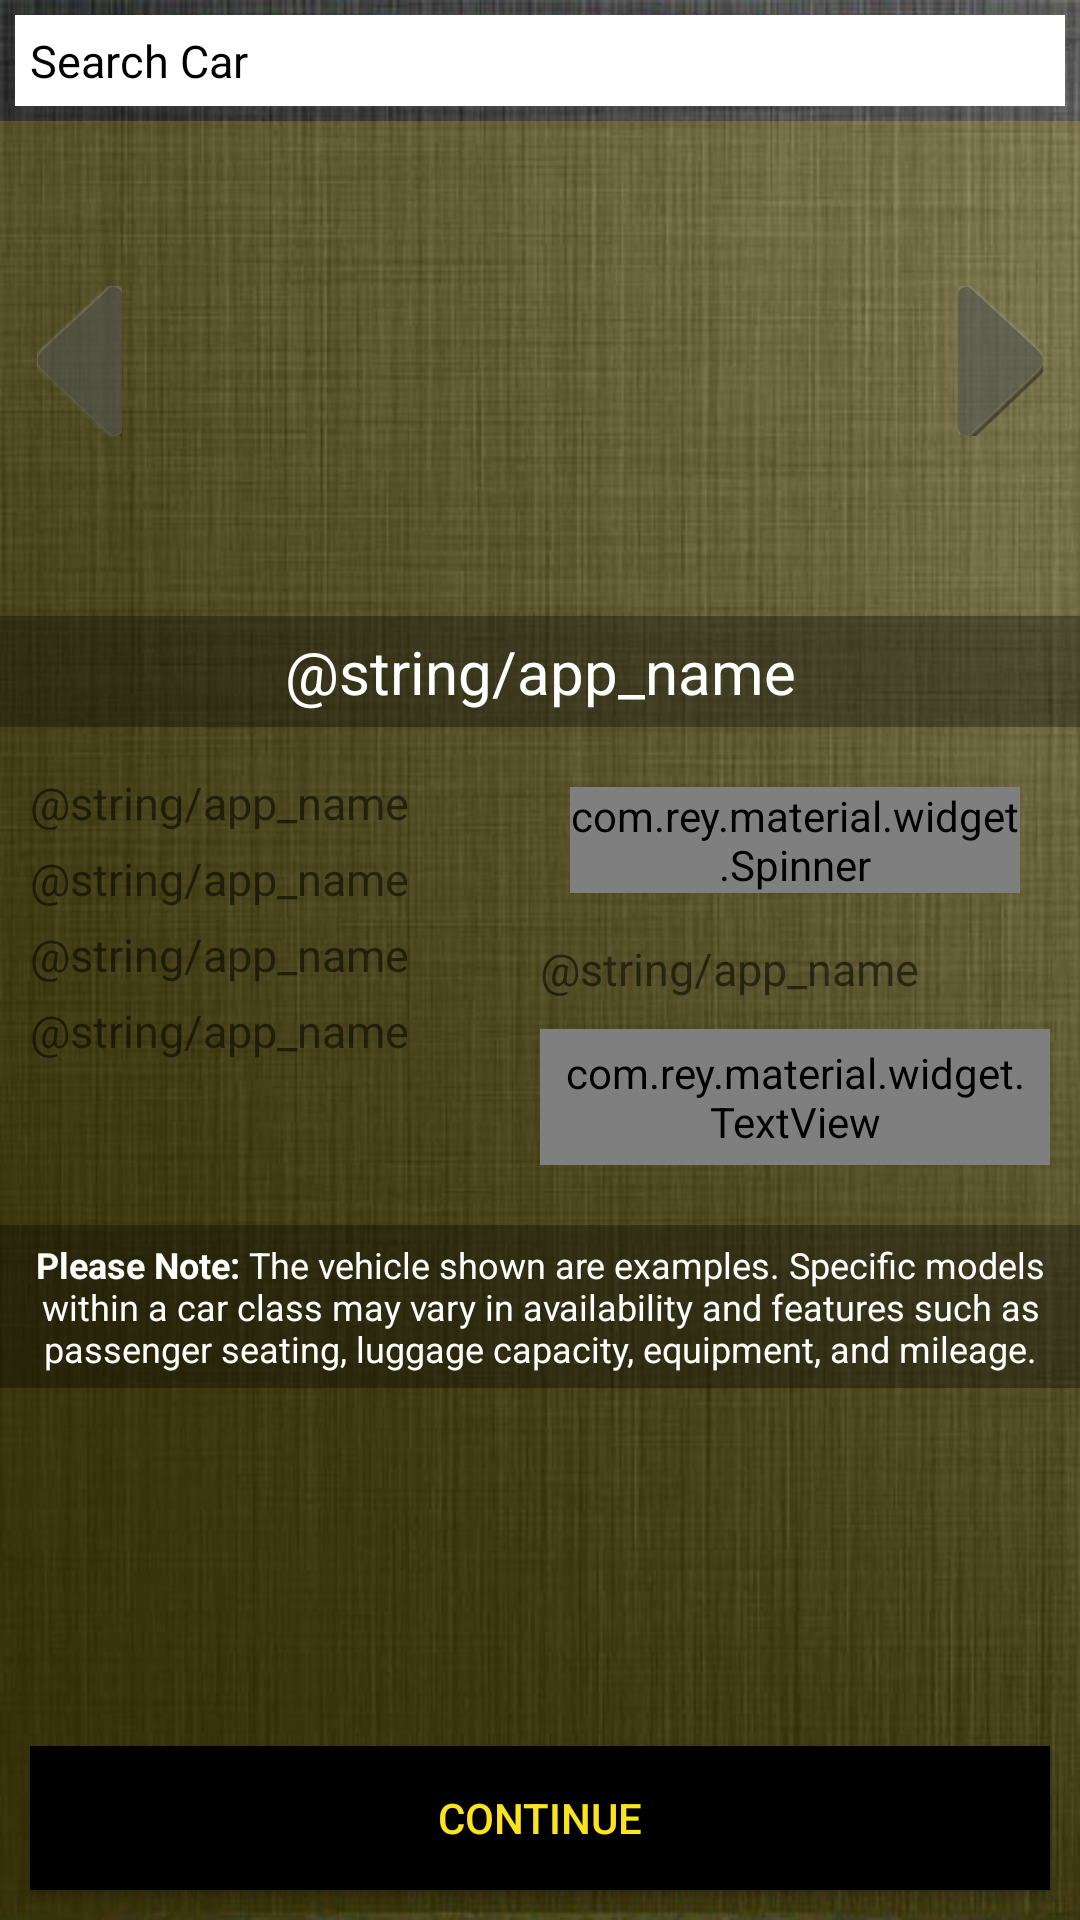

Named icons in this screenshot (1080px x 1920px) and their bounding boxes, box(x1, y1, x2, y2):
arrowleft: box(37, 286, 122, 436)
arrowright: box(951, 286, 1050, 436)
